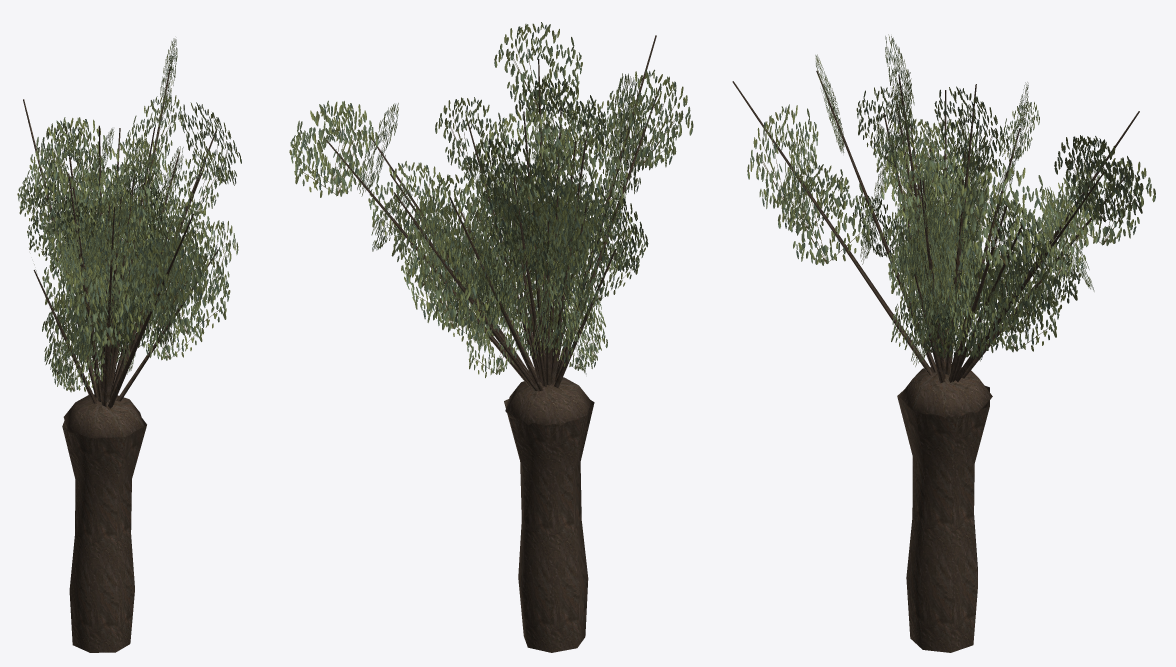
Rendered from tpl_rec_bank_dike_pollard_hi.glb.
The picture shows the model from 3 angles, left to right: view 1: azimuth 30°, elevation 25°; view 2: azimuth 150°, elevation 25°; view 3: azimuth 270°, elevation 25°; orthographic projection. The views are drawn at different scales.
Visible parts, largest first — view 1: tpl_rec_bank_dike_pollard_hi; view 2: tpl_rec_bank_dike_pollard_hi; view 3: tpl_rec_bank_dike_pollard_hi.
Boxes of the visible parts, <box> form: tpl_rec_bank_dike_pollard_hi: <box>17,38,241,652</box>; tpl_rec_bank_dike_pollard_hi: <box>289,22,693,652</box>; tpl_rec_bank_dike_pollard_hi: <box>732,34,1155,652</box>.
Size of the model in its own units: 2.98 by 6.38 by 3.98.
2 materials, 2 textured.
